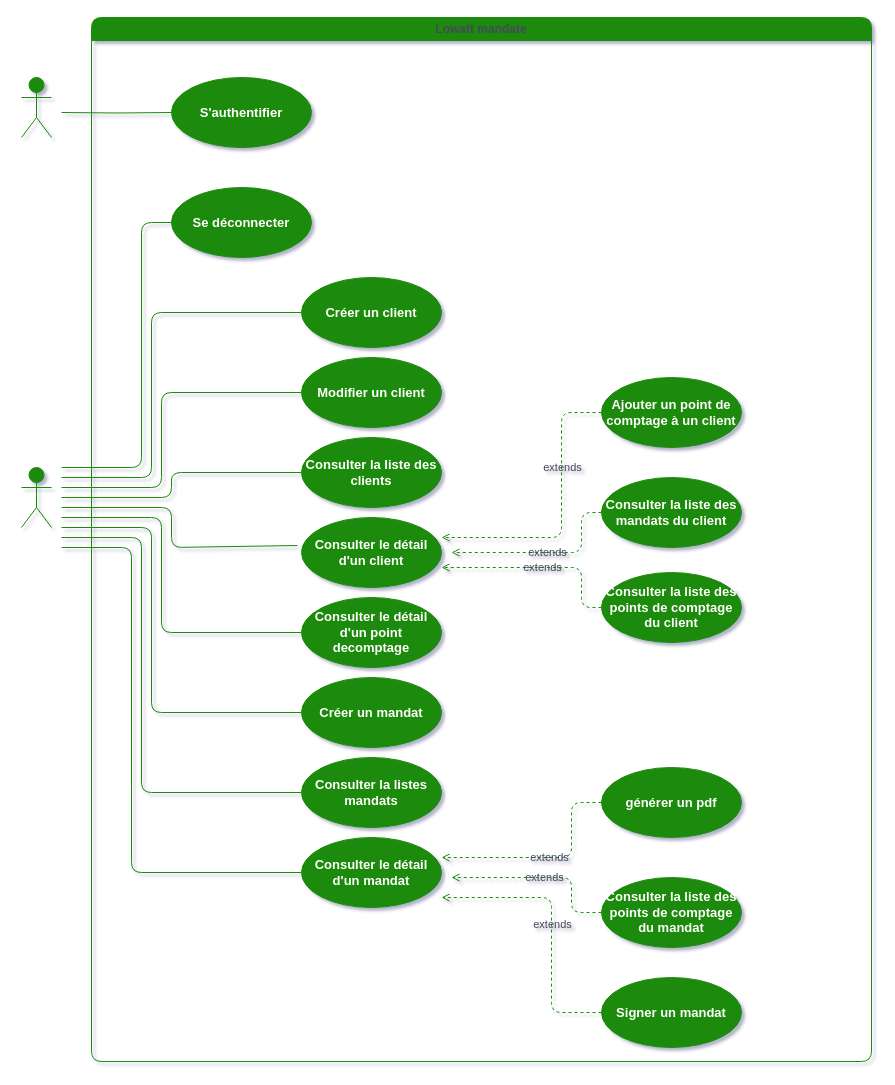
This 895x1085 diagram has some shape labels left out. The shapes that lost their labels are listed below. From the top down, each one's centre as x and y in pixels, then its label:
(x=36, y=107): visiteur
(x=36, y=497): user
